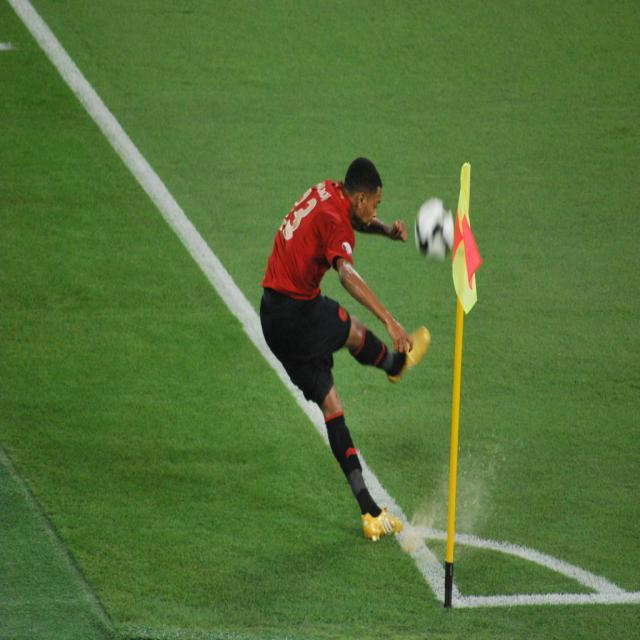football: (395, 183, 470, 282)
